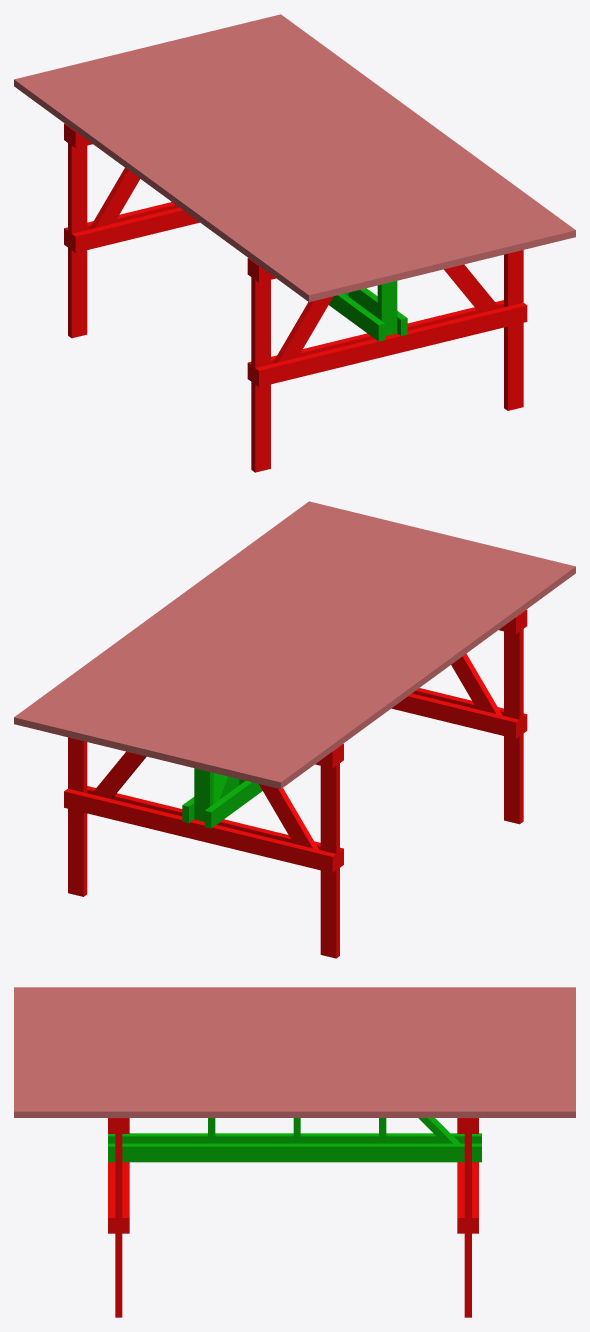
Rendered from result.glb.
The picture shows the model from 3 angles, top to bottom: view 1: azimuth 30°, elevation 25°; view 2: azimuth 150°, elevation 25°; view 3: azimuth 270°, elevation 25°; orthographic projection. The views are drawn at different scales.
Visible parts, largest first — view 1: ee480128-93b0-4769-9a45-206112180103__Box, f3fe2ca3-b30e-41d6-938e-7850ae19183b__sideH, 3616752f-79e6-4594-858b-9e1bdfeb797a__undefined, 1e22ddd4-ef47-49f5-89c5-d78210c47fc9__undefined, eb5cf015-7448-4bec-84b6-1ac7d554c29b__undefined, fa39cbb7-a1af-4906-a898-c88f1022819e__undefined, ffe6d2c6-c0fa-4dad-a4be-197fd95f745c__undefined, 1765f789-601b-4bfc-92be-faff7feafdac__undefined, 79aad711-aed3-4a71-8c77-8369b93fea36__undefined, d461a834-1e29-451c-bb15-6f46a662c145__undefined, 67be3202-eb17-49e6-9885-092d09bd5487__undefined, b94903cf-ff8c-499f-b020-721ec0bb2824__undefined (+18 smaller); view 2: ee480128-93b0-4769-9a45-206112180103__Box, 635dda02-a40b-4c19-b476-66c34cab30de__undefined, fa39cbb7-a1af-4906-a898-c88f1022819e__undefined, ffe6d2c6-c0fa-4dad-a4be-197fd95f745c__undefined, 1e22ddd4-ef47-49f5-89c5-d78210c47fc9__undefined, eb5cf015-7448-4bec-84b6-1ac7d554c29b__undefined, 1765f789-601b-4bfc-92be-faff7feafdac__undefined, 3616752f-79e6-4594-858b-9e1bdfeb797a__undefined, 70c29748-c7ff-4d39-9ded-d7358615fc74__undefined, 79aad711-aed3-4a71-8c77-8369b93fea36__undefined, f3dbbe3d-6598-48d2-b73d-bf272176de1e__undefined, 683e7ba9-7a23-4847-b1b3-1cf6bfc3f639__undefined (+17 smaller); view 3: 67be3202-eb17-49e6-9885-092d09bd5487__undefined, 68da9db1-2b15-4378-8889-6852c004eae2__strutH, ee480128-93b0-4769-9a45-206112180103__Box, 1765f789-601b-4bfc-92be-faff7feafdac__undefined, 79aad711-aed3-4a71-8c77-8369b93fea36__undefined, b94903cf-ff8c-499f-b020-721ec0bb2824__undefined, f3dbbe3d-6598-48d2-b73d-bf272176de1e__undefined, 3616752f-79e6-4594-858b-9e1bdfeb797a__undefined, 683e7ba9-7a23-4847-b1b3-1cf6bfc3f639__undefined, be61e3c6-6052-4d5e-bae5-186bda3d9adb__undefined, 1e22ddd4-ef47-49f5-89c5-d78210c47fc9__undefined, dfe24426-f596-4cf6-b24f-40dc366921c9__undefined (+14 smaller).
Part boxes in pixels (left/top/right/bottom): ee480128-93b0-4769-9a45-206112180103__Box: left=14, top=75, right=324, bottom=302; f3fe2ca3-b30e-41d6-938e-7850ae19183b__sideH: left=255, top=302, right=527, bottom=387; 3616752f-79e6-4594-858b-9e1bdfeb797a__undefined: left=93, top=56, right=403, bottom=282; 1e22ddd4-ef47-49f5-89c5-d78210c47fc9__undefined: left=140, top=45, right=450, bottom=271; eb5cf015-7448-4bec-84b6-1ac7d554c29b__undefined: left=187, top=33, right=497, bottom=259; fa39cbb7-a1af-4906-a898-c88f1022819e__undefined: left=250, top=18, right=560, bottom=244; ffe6d2c6-c0fa-4dad-a4be-197fd95f745c__undefined: left=202, top=29, right=513, bottom=256; 1765f789-601b-4bfc-92be-faff7feafdac__undefined: left=30, top=72, right=340, bottom=298; 79aad711-aed3-4a71-8c77-8369b93fea36__undefined: left=45, top=68, right=355, bottom=294; d461a834-1e29-451c-bb15-6f46a662c145__undefined: left=218, top=26, right=528, bottom=252; 67be3202-eb17-49e6-9885-092d09bd5487__undefined: left=265, top=14, right=575, bottom=240; b94903cf-ff8c-499f-b020-721ec0bb2824__undefined: left=61, top=64, right=371, bottom=290; ee480128-93b0-4769-9a45-206112180103__Box: left=265, top=562, right=575, bottom=789; 635dda02-a40b-4c19-b476-66c34cab30de__undefined: left=64, top=788, right=336, bottom=873; fa39cbb7-a1af-4906-a898-c88f1022819e__undefined: left=29, top=505, right=339, bottom=731; ffe6d2c6-c0fa-4dad-a4be-197fd95f745c__undefined: left=76, top=516, right=387, bottom=743; 1e22ddd4-ef47-49f5-89c5-d78210c47fc9__undefined: left=139, top=532, right=449, bottom=758; eb5cf015-7448-4bec-84b6-1ac7d554c29b__undefined: left=92, top=520, right=402, bottom=746; 1765f789-601b-4bfc-92be-faff7feafdac__undefined: left=249, top=559, right=559, bottom=785; 3616752f-79e6-4594-858b-9e1bdfeb797a__undefined: left=186, top=543, right=496, bottom=769; 70c29748-c7ff-4d39-9ded-d7358615fc74__undefined: left=108, top=524, right=418, bottom=750; 79aad711-aed3-4a71-8c77-8369b93fea36__undefined: left=234, top=555, right=544, bottom=781; f3dbbe3d-6598-48d2-b73d-bf272176de1e__undefined: left=202, top=547, right=512, bottom=773; 683e7ba9-7a23-4847-b1b3-1cf6bfc3f639__undefined: left=171, top=539, right=481, bottom=766; 67be3202-eb17-49e6-9885-092d09bd5487__undefined: left=14, top=1104, right=575, bottom=1117; 68da9db1-2b15-4378-8889-6852c004eae2__strutH: left=108, top=1143, right=481, bottom=1162; ee480128-93b0-4769-9a45-206112180103__Box: left=14, top=987, right=575, bottom=994; 1765f789-601b-4bfc-92be-faff7feafdac__undefined: left=14, top=994, right=575, bottom=1001; 79aad711-aed3-4a71-8c77-8369b93fea36__undefined: left=14, top=1002, right=575, bottom=1009; b94903cf-ff8c-499f-b020-721ec0bb2824__undefined: left=14, top=1009, right=575, bottom=1016; f3dbbe3d-6598-48d2-b73d-bf272176de1e__undefined: left=14, top=1016, right=575, bottom=1023; 3616752f-79e6-4594-858b-9e1bdfeb797a__undefined: left=14, top=1024, right=575, bottom=1031; 683e7ba9-7a23-4847-b1b3-1cf6bfc3f639__undefined: left=14, top=1031, right=575, bottom=1038; be61e3c6-6052-4d5e-bae5-186bda3d9adb__undefined: left=14, top=1038, right=575, bottom=1045; 1e22ddd4-ef47-49f5-89c5-d78210c47fc9__undefined: left=14, top=1045, right=575, bottom=1052; dfe24426-f596-4cf6-b24f-40dc366921c9__undefined: left=14, top=1053, right=575, bottom=1060.
Bounding box in the file's own units: 940 × 723 × 1790.
